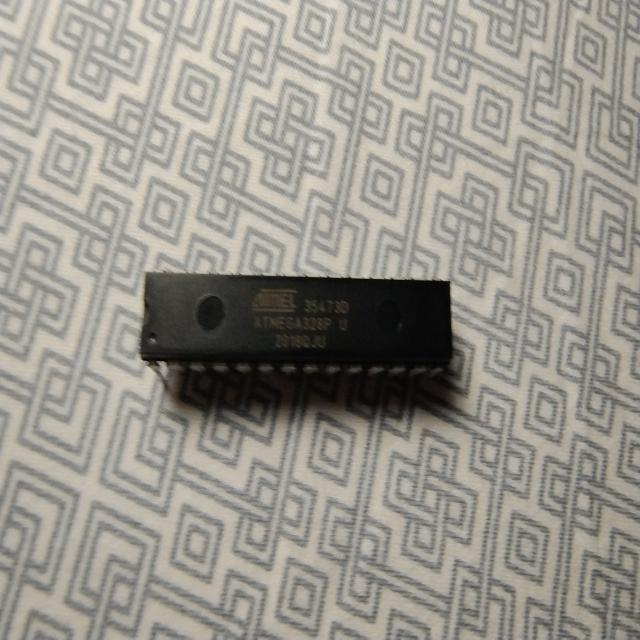atmega: (132, 255, 460, 398)
